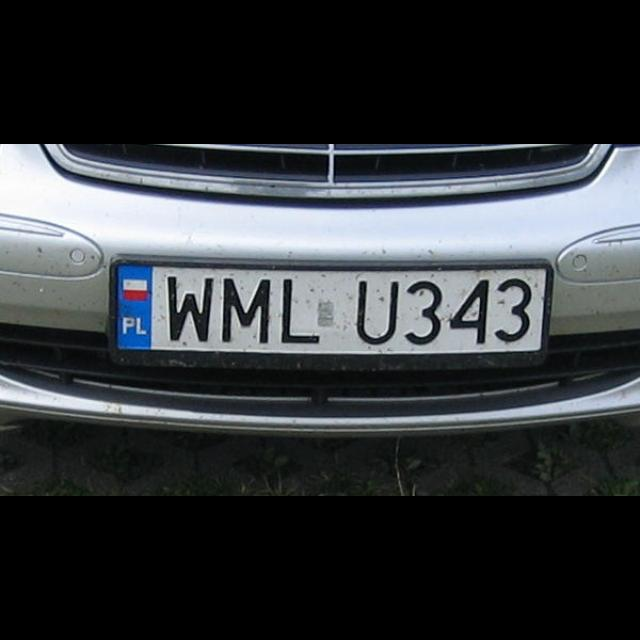license-plates: (114, 265, 550, 363)
